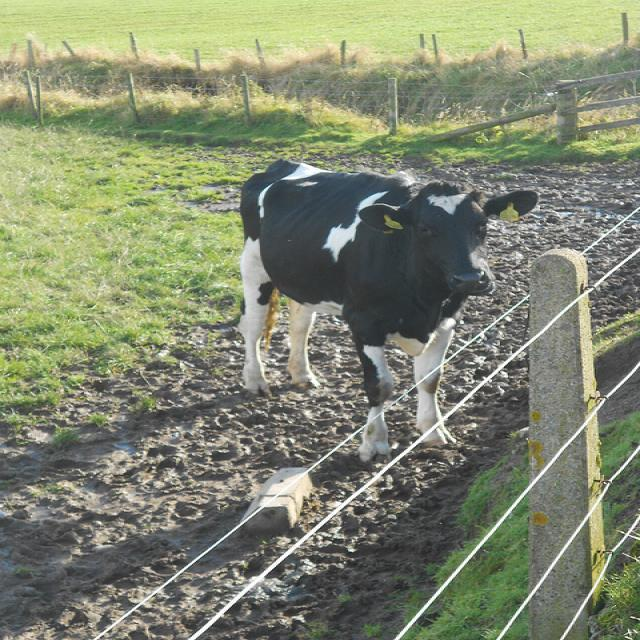cow: (234, 152, 550, 461)
